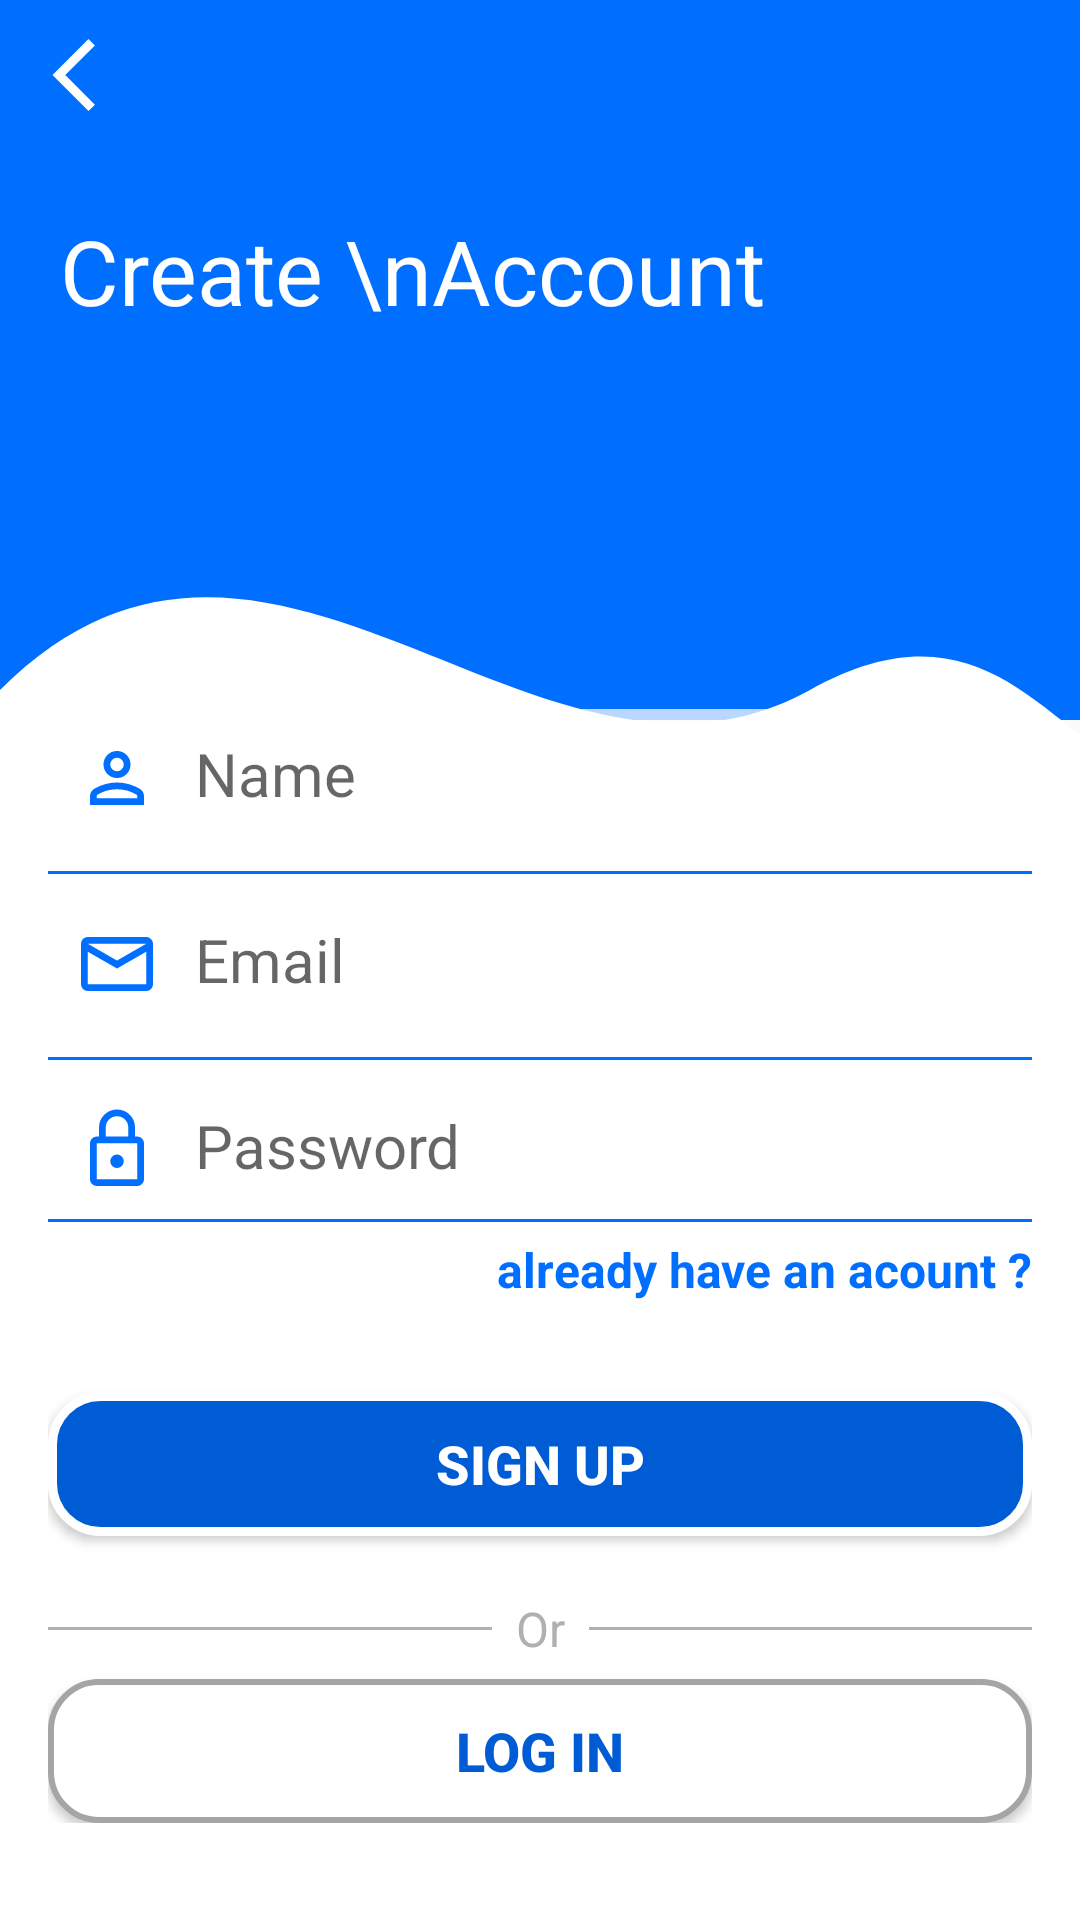

Named icons in this screenshot (1080px x 1920px) and their bounding boxes, (x1, y1, x2, y2):
Back: (52, 39, 95, 111)
lock: (90, 1109, 144, 1186)
person: (90, 751, 144, 805)
